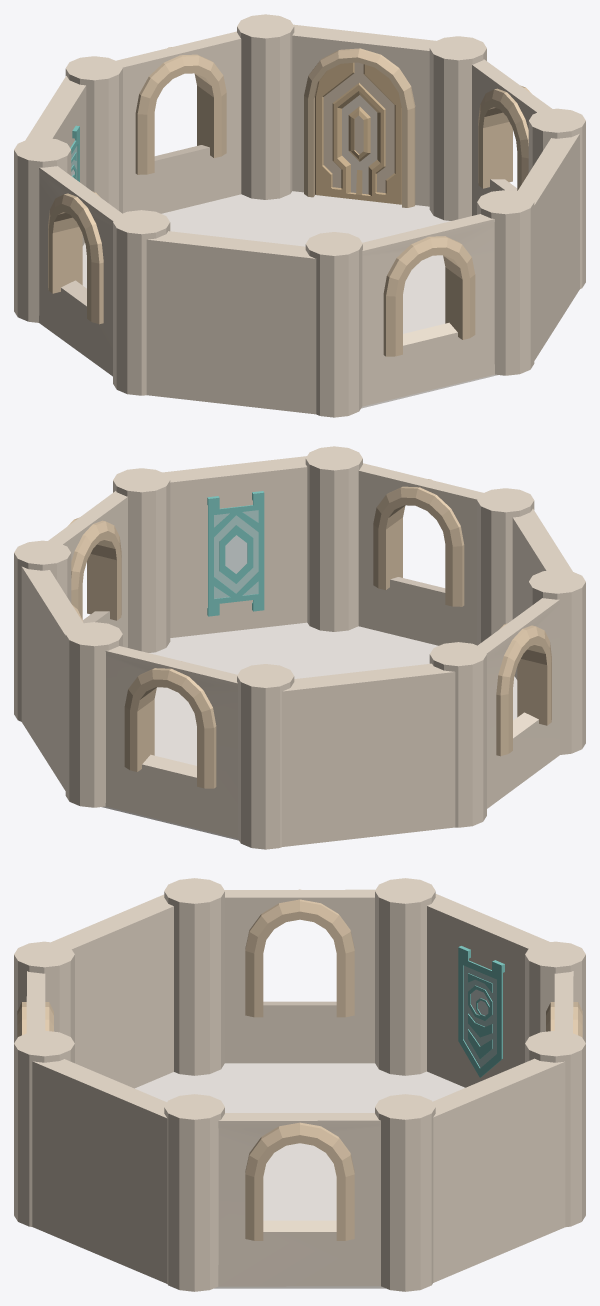
The model's file is main_room.glb.
The picture shows the model from 3 angles, top to bottom: view 1: azimuth 30°, elevation 25°; view 2: azimuth 150°, elevation 25°; view 3: azimuth 270°, elevation 25°; orthographic projection. The views are drawn at different scales.
Visible parts, largest first — view 1: room; view 2: room; view 3: room.
Boxes of the visible parts, box(x1,y1,x2,y2) form: room: box(14, 14, 585, 417); room: box(14, 446, 585, 849); room: box(14, 878, 585, 1291).
Size of what is drawn, in the model's own units: 9.39 by 3.22 by 9.39.
